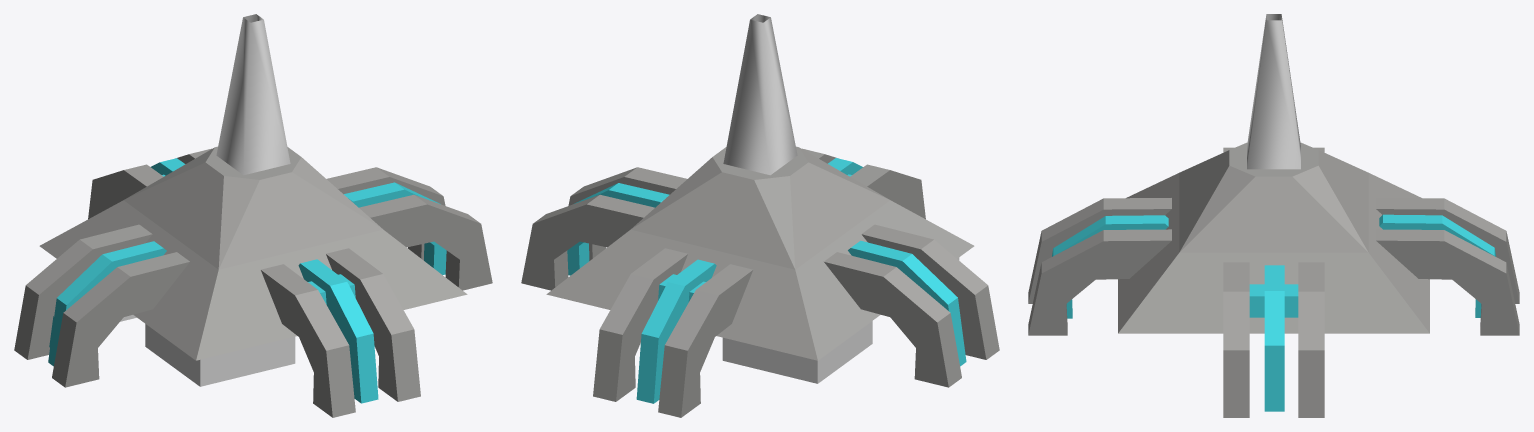
The model's file is TorreRadarAVC1.fbx.
The picture shows the model from 3 angles, left to right: view 1: azimuth 30°, elevation 25°; view 2: azimuth 150°, elevation 25°; view 3: azimuth 270°, elevation 25°; orthographic projection.
Visible parts, largest first — view 1: Base; view 2: Base; view 3: Base.
Part boxes in pixels (left/top/right/bottom): Base: left=14, top=14, right=492, bottom=417; Base: left=521, top=14, right=999, bottom=417; Base: left=1028, top=14, right=1519, bottom=417.
Bounding box in the file's own units: 559 × 373 × 559.
